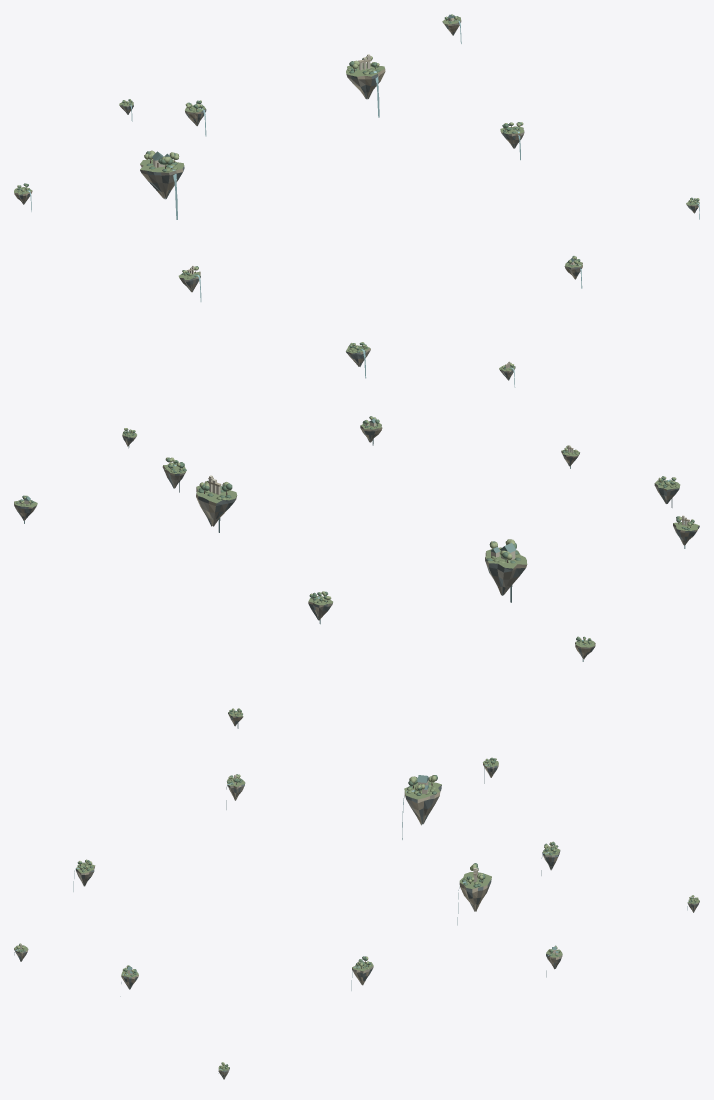
The model's file is distant_islands.glb.
3 renders of one model, top to bottom at view 1: azimuth 30°, elevation 25°; view 2: azimuth 150°, elevation 25°; view 3: azimuth 270°, elevation 25°, orthographic. The views are drawn at different scales.
Visible parts, largest first — view 1: distant_island_00_village, distant_island_01_ruin; view 2: distant_island_00_village, distant_island_01_ruin, distant_island_02_forest, distant_island_04_ruin; view 3: distant_island_00_village, distant_island_01_ruin.
Boxes of the visible parts, x1,y1,x2,y2 form: distant_island_00_village: [140, 150, 184, 219]; distant_island_01_ruin: [346, 54, 385, 117]; distant_island_00_village: [485, 539, 527, 602]; distant_island_01_ruin: [196, 475, 237, 532]; distant_island_02_forest: [308, 591, 332, 624]; distant_island_04_ruin: [673, 515, 699, 548]; distant_island_00_village: [402, 775, 441, 839]; distant_island_01_ruin: [457, 863, 491, 925].
Size of the model in its own units: 168 by 41.53 by 182.
